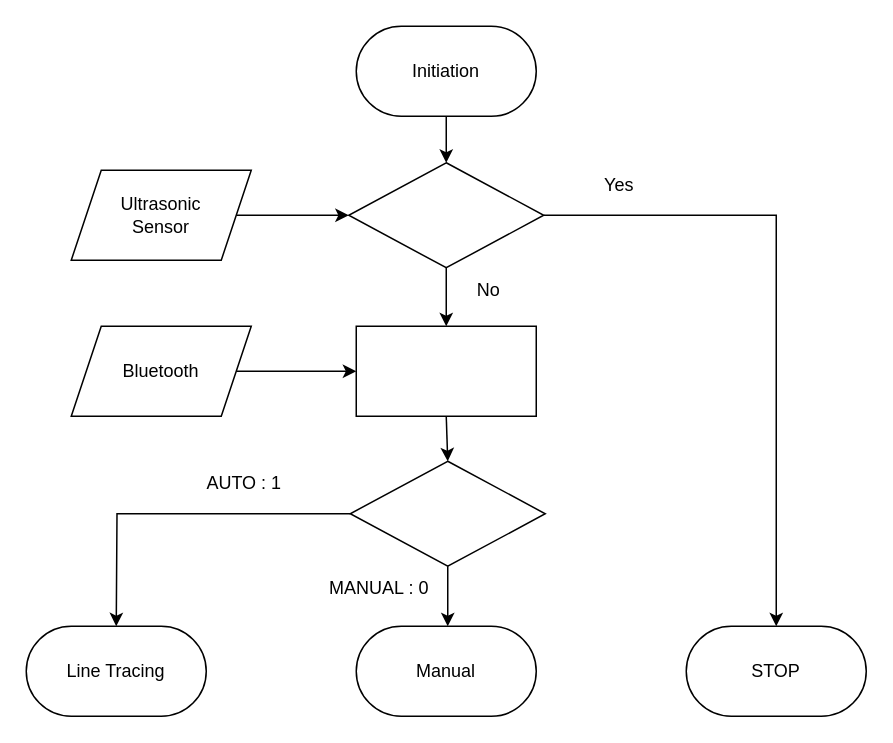
This 893x743 diagram has some shape labels left out. Here are the shapes that lost their labels. From the top down, the box of each, then its label:
(347, 161, 544, 268): Distance
(355, 325, 536, 416): Read and store the data
(349, 460, 545, 566): Mode
